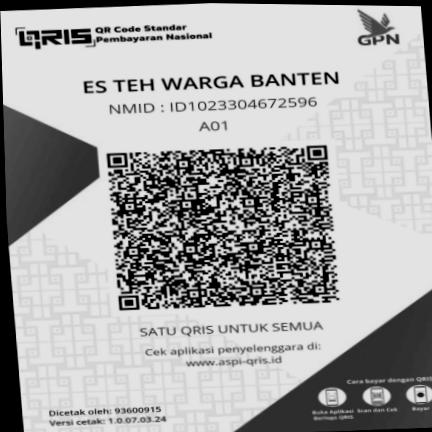Qris-Positioning: (0, 3, 432, 432)
